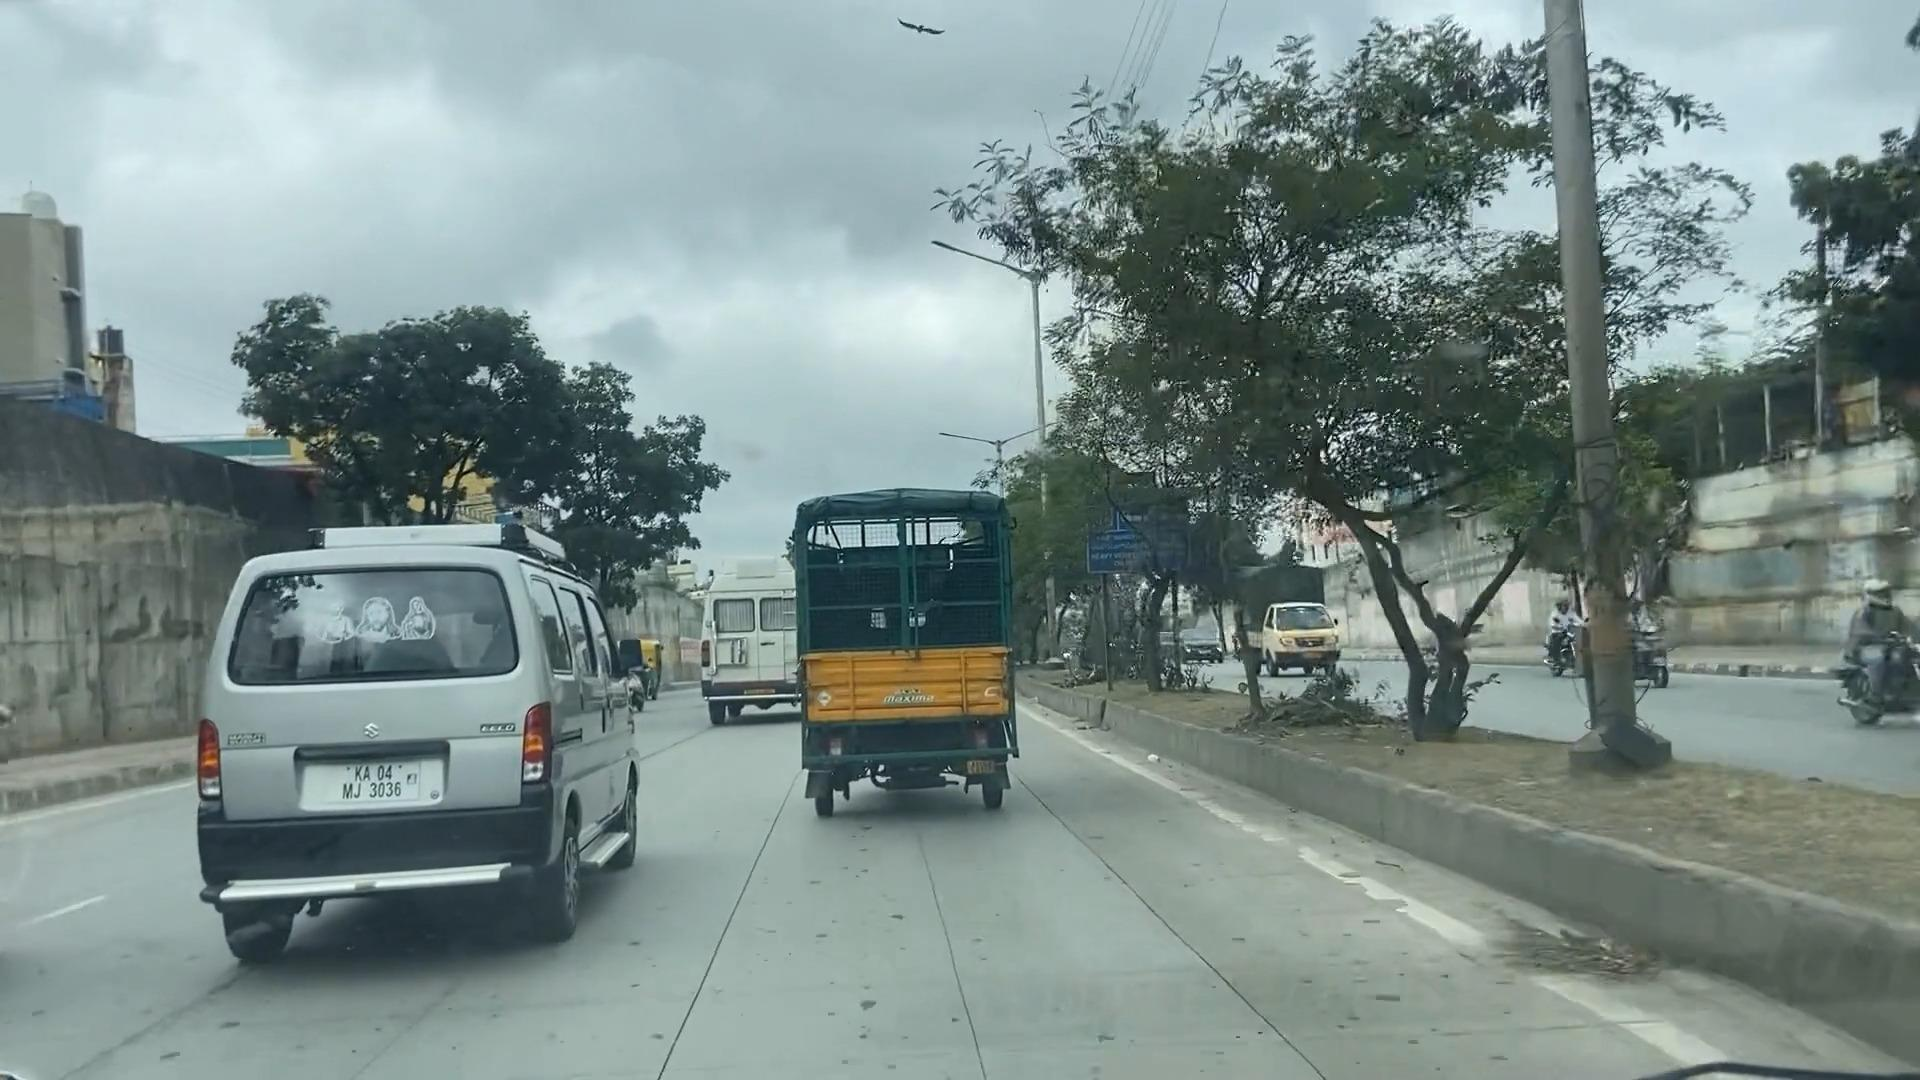HMV: (789, 498, 1023, 796), (686, 538, 798, 724)
LMV: (193, 538, 636, 932)
